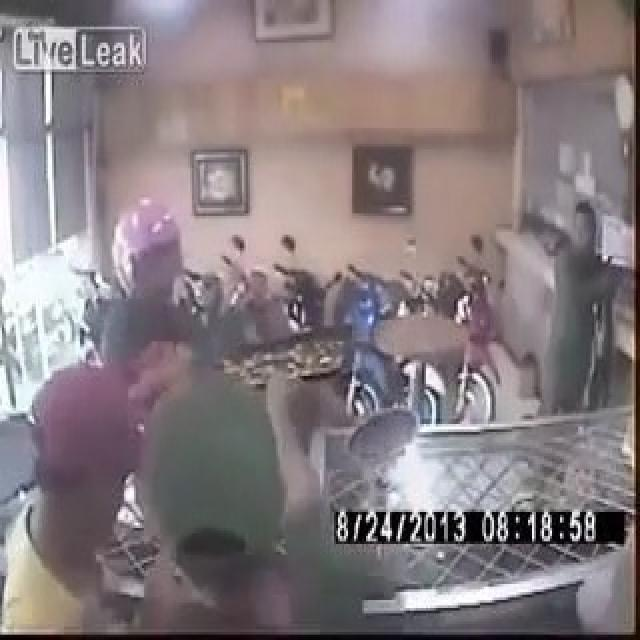Shoplifting: (65, 168, 372, 580)
